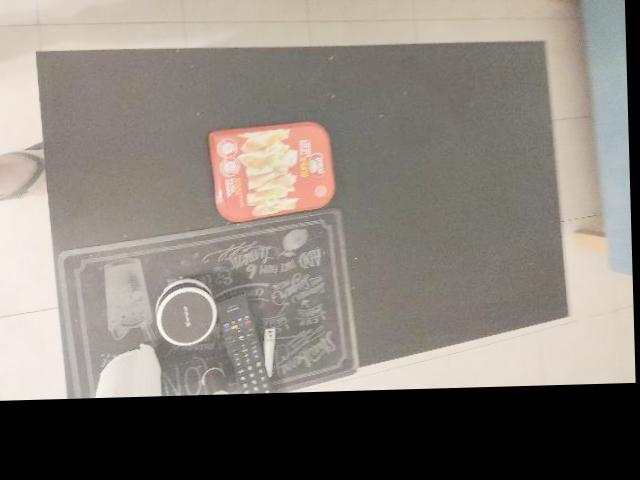cheese: (195, 118, 336, 218)
